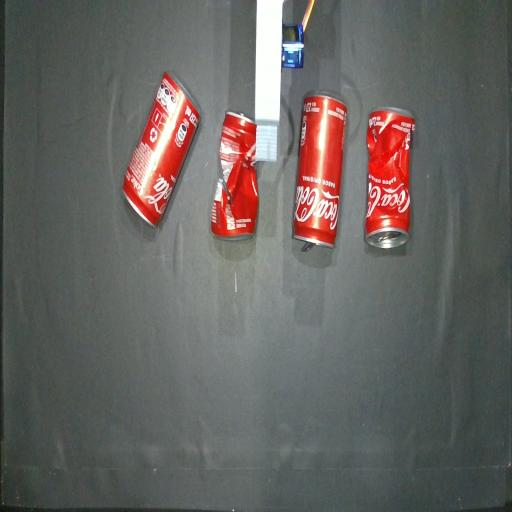lata: (124, 73, 200, 225), (293, 93, 347, 251)
lata_defectuoso: (365, 108, 414, 248), (211, 112, 258, 239)
